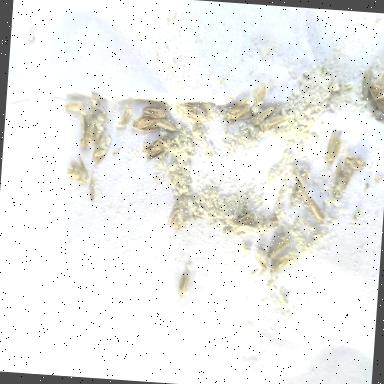pbw: (78, 109, 106, 149), (137, 134, 176, 162), (268, 251, 294, 280), (175, 102, 208, 124), (90, 133, 112, 165), (266, 234, 292, 260), (333, 166, 354, 198), (224, 99, 252, 122), (360, 60, 375, 102), (166, 206, 184, 240), (129, 114, 158, 135), (304, 196, 326, 222), (250, 104, 274, 127), (325, 134, 342, 166), (288, 180, 306, 209), (93, 109, 108, 143), (140, 104, 170, 120), (251, 84, 266, 114), (182, 195, 204, 215), (154, 116, 178, 134), (364, 83, 384, 104), (116, 103, 131, 130), (254, 248, 272, 270), (260, 114, 288, 128), (287, 166, 311, 182), (176, 270, 190, 296), (342, 155, 366, 170), (256, 214, 278, 230), (232, 211, 254, 226), (62, 100, 85, 113), (66, 172, 88, 184), (236, 224, 258, 236)
